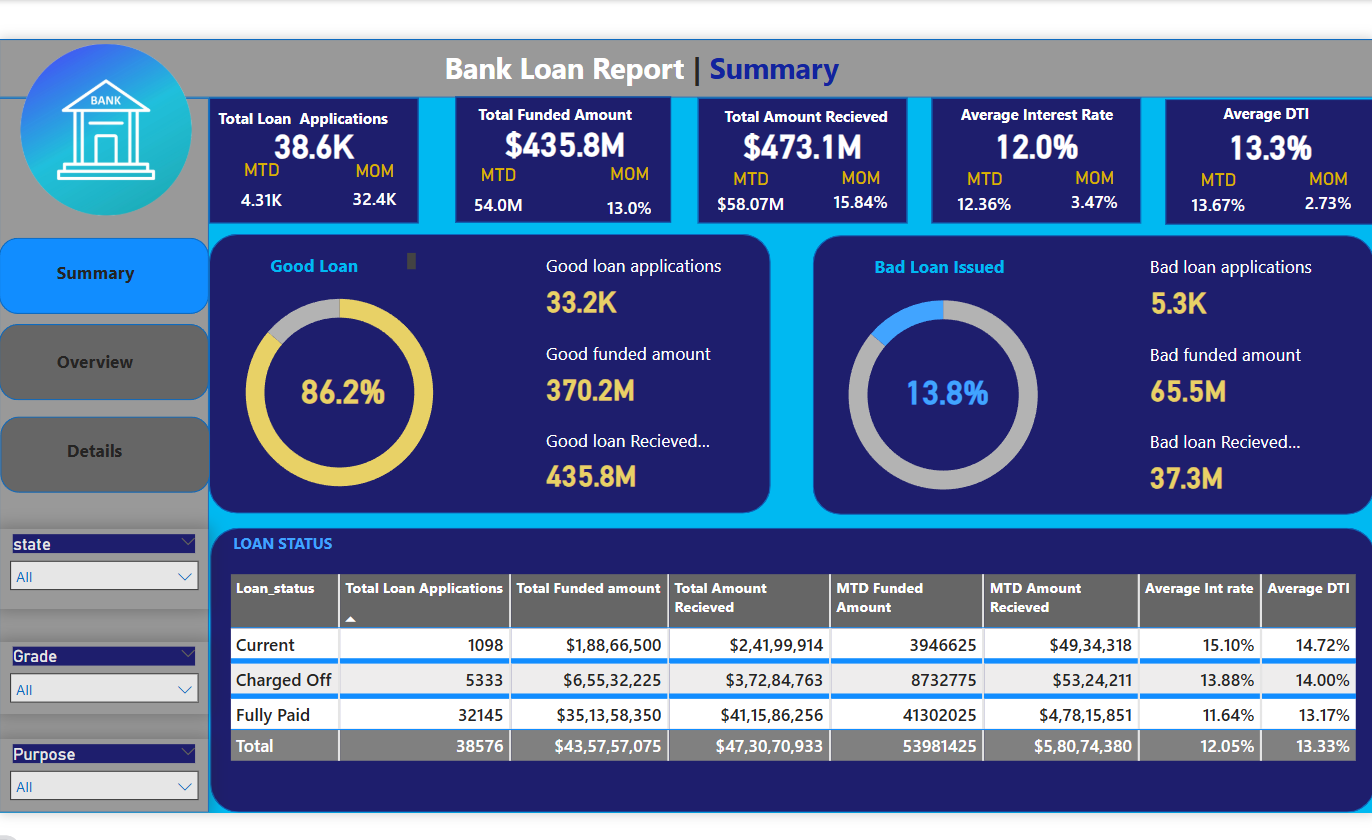

What the dashboard file says about the page in this screenshot:
{"tool":"powerbi","page":{"name":"Summary","canvas":[1280,720],"ordinal":0},"visuals":[{"type":"shape","box":[0,54.7,195.3,665.1],"z":0},{"type":"shape","box":[195.3,54.7,195,117],"z":0,"group":"g1"},{"type":"shape","box":[650,54.7,195,117],"z":0,"group":"g2"},{"type":"shape","box":[867.4,54.7,195,117],"z":0,"group":"g3"},{"type":"shape","box":[1084.9,55.8,195,117],"z":0,"group":"g4"},{"type":"shape","box":[195,181.2,522.5,260],"z":0,"group":"g5"},{"type":"shape","box":[757,182.5,522.5,260],"z":0,"group":"g6"},{"type":"shape","box":[0,0,1280.2,54.7],"z":1000},{"type":"card","fields":{"Values":["banking.Total Loan Applications"]},"box":[220.9,73.3,144.2,50],"z":1000,"group":"g1"},{"type":"card","fields":{"Values":["banking.Total Amount Recieved"]},"box":[675.6,73.3,144.2,50],"z":1000,"group":"g2"},{"type":"card","fields":{"Values":["banking.Average Int rate"]},"box":[893,73.3,144.2,50],"z":1000,"group":"g3"},{"type":"card","fields":{"Values":["banking.Average DTI"]},"box":[1110.5,74.4,144.2,50],"z":1000,"group":"g4"},{"type":"textbox","box":[247.5,193.7,145,33.8],"z":1000,"group":"g5"},{"type":"textbox","box":[809.5,195,145,33.8],"z":1000,"group":"g6"},{"type":"shape","box":[424.4,53.5,201.2,117.4],"z":2000},{"type":"textbox","box":[1133.4,54.7,114,34.9],"z":2000,"group":"g4"},{"type":"textbox","box":[889.1,55.3,177.9,40.7],"z":2000,"group":"g3"},{"type":"textbox","box":[669.7,56.9,177.9,40.7],"z":2000,"group":"g2"},{"type":"textbox","box":[198.6,58.9,191.2,37.5],"z":2000,"group":"g1"},{"type":"card","fields":{"Values":["banking.Good loan percentage"]},"box":[247.5,301.2,145,50],"z":2000,"group":"g5"},{"type":"card","fields":{"Values":["banking.Bad loan percentage"]},"box":[809.5,302.5,145,50],"z":2000,"group":"g6"},{"type":"card","fields":{"Values":["banking.Total funded amount"]},"box":[440.7,64,172.1,65.1],"z":3000},{"type":"card","title":"MTD","fields":{"Values":["banking.MTD Loan Applications"]},"box":[210,112.1,67.4,58.1],"z":3000,"group":"g1"},{"type":"card","title":"MTD","fields":{"Values":["banking.MTD Amount Recieved"]},"box":[660.4,119.8,77.9,50],"z":3000,"group":"g2"},{"type":"card","title":"MTD","fields":{"Values":["banking.MTD Int Rate"]},"box":[877.8,119.8,77.9,50],"z":3000,"group":"g3"},{"type":"card","title":"MTD","fields":{"Values":["banking.MTD DTI"]},"box":[1095.3,120.9,77.9,50],"z":3000,"group":"g4"},{"type":"donutChart","fields":{"Category":["banking.Good vs bad loan"],"Y":["banking.Total Loan Applications"]},"box":[190.1,214.6,252.3,227.9],"z":3000,"group":"g5"},{"type":"donutChart","fields":{"Category":["banking.Good vs bad loan"],"Y":["banking.Total Loan Applications"]},"box":[753.8,215.9,250,230],"z":3000,"group":"g6"},{"type":"textbox","box":[409.3,3.5,439.5,50],"z":4000},{"type":"card","title":"MOM","fields":{"Values":["banking.MOM Amount Recieved"]},"box":[759.2,118.5,84.9,48.8],"z":4000,"group":"g2"},{"type":"card","title":"MOM","fields":{"Values":["banking.MOM Int Rate"]},"box":[976.6,118.5,84.9,48.8],"z":4000,"group":"g3"},{"type":"card","title":"MOM","fields":{"Values":["banking.MOM DTI"]},"box":[1194.1,119.6,84.9,48.8],"z":4000,"group":"g4"},{"type":"cardVisual","fields":{"Data":["banking.Good loan applications","banking.Good funded loans","banking.Good loan Recieved amount"]},"box":[491.2,182.4,217.5,248.8],"z":4000,"group":"g5"},{"type":"cardVisual","fields":{"Data":["banking.bad loan applications","banking.Bad funded amount","banking.Bad loan Recieved amount"]},"box":[1053.2,183.7,217.5,248.8],"z":4000,"group":"g6"},{"type":"textbox","box":[440.7,55.8,170.9,36],"z":5000},{"type":"group","id":"g1","title":"Group 1","box":[195.3,54.7,195,117],"z":6000},{"type":"card","title":"MTD","fields":{"Values":["banking.MTD Funded Amount"]},"box":[424.4,116.3,80.2,59.3],"z":7000},{"type":"card","title":"MOM","fields":{"Values":["banking.MOM Funded Amount"]},"box":[547.7,115.1,77.9,67.4],"z":8000},{"type":"card","title":"MOM","fields":{"Values":["banking.MOM Applications"]},"box":[317.4,112.8,64,54.7],"z":9000},{"type":"group","id":"g2","title":"Group 1","box":[650,54.7,197.7,117.4],"z":10000},{"type":"shape","box":[196.2,455,1083.8,265],"z":11000},{"type":"group","id":"g3","title":"Group 1","box":[867.4,54.7,200,117.4],"z":12000},{"type":"group","id":"g4","title":"Group 1","box":[1084.9,54.7,195.3,118.6],"z":13000},{"type":"group","id":"g5","title":"Group 2","box":[190.1,181.2,527.4,261.3],"z":14000},{"type":"group","id":"g6","title":"Group 2","box":[753.8,182.5,526.2,263.8],"z":15000},{"type":"tableEx","fields":{"Values":["banking.loan_status","banking.Total Loan Applications","banking.Total funded amount","banking.Total Amount Recieved","banking.MTD Funded Amount","banking.MTD Amount Recieved","banking.Average Int rate","banking.Average DTI"]},"box":[209.3,493,1061.6,202.3],"z":16000},{"type":"textbox","box":[212.8,454.7,130.2,38.4],"z":17000},{"type":"slicer","fields":{"Values":["banking.address_state"]},"box":[0,455.8,195.3,74.4],"z":18000},{"type":"slicer","fields":{"Values":["banking.grade"]},"box":[0,560.5,195.3,67.4],"z":19000},{"type":"slicer","fields":{"Values":["banking.purpose"]},"box":[0,651.2,195.3,68.6],"z":20000},{"type":"pageNavigator","box":[3.5,194.2,187.2,50],"z":21000},{"type":"shape","box":[0,184.9,195.3,70.9],"z":22000},{"type":"textbox","box":[48.8,201.2,97.7,38.4],"z":23000},{"type":"shape","box":[0,265.1,195.3,70.9],"z":24000},{"type":"shape","box":[1.2,351.2,195.3,70.9],"z":25000},{"type":"textbox","box":[48.8,283.7,105.8,38.4],"z":26000},{"type":"textbox","box":[58.1,366.3,120.9,40.7],"z":27000},{"type":"image","box":[0,0,198.8,168.6],"z":28000},{"type":"shape","box":[19.8,352.3,159.3,69.8],"z":29000},{"type":"shape","box":[19.8,265.1,159.3,70.9],"z":30000}]}

Visuals, with their boxes on the page's 1280x720 design canvas (x1, y1, x2, y2). These are canvas units, not pixel positions in the 1372x840 screenshot, which may show the page scaled, cropped or inside an application window:
shape: (left=0, top=55, right=195, bottom=720)
shape: (left=195, top=55, right=390, bottom=172)
shape: (left=650, top=55, right=845, bottom=172)
shape: (left=867, top=55, right=1062, bottom=172)
shape: (left=1085, top=56, right=1280, bottom=173)
shape: (left=195, top=181, right=718, bottom=441)
shape: (left=757, top=182, right=1280, bottom=442)
shape: (left=0, top=0, right=1280, bottom=55)
card - banking.Total Loan Applications: (left=221, top=73, right=365, bottom=123)
card - banking.Total Amount Recieved: (left=676, top=73, right=820, bottom=123)
card - banking.Average Int rate: (left=893, top=73, right=1037, bottom=123)
card - banking.Average DTI: (left=1110, top=74, right=1255, bottom=124)
textbox: (left=248, top=194, right=392, bottom=228)
textbox: (left=810, top=195, right=954, bottom=229)
shape: (left=424, top=54, right=626, bottom=171)
textbox: (left=1133, top=55, right=1247, bottom=90)
textbox: (left=889, top=55, right=1067, bottom=96)
textbox: (left=670, top=57, right=848, bottom=98)
textbox: (left=199, top=59, right=390, bottom=96)
card - banking.Good loan percentage: (left=248, top=301, right=392, bottom=351)
card - banking.Bad loan percentage: (left=810, top=302, right=954, bottom=352)
card - banking.Total funded amount: (left=441, top=64, right=613, bottom=129)
"MTD" card: (left=210, top=112, right=277, bottom=170)
"MTD" card: (left=660, top=120, right=738, bottom=170)
"MTD" card: (left=878, top=120, right=956, bottom=170)
"MTD" card: (left=1095, top=121, right=1173, bottom=171)
donutChart - banking.Good vs bad loan x banking.Total Loan Applications: (left=190, top=215, right=442, bottom=442)
donutChart - banking.Good vs bad loan x banking.Total Loan Applications: (left=754, top=216, right=1004, bottom=446)
textbox: (left=409, top=4, right=849, bottom=54)
"MOM" card: (left=759, top=118, right=844, bottom=167)
"MOM" card: (left=977, top=118, right=1062, bottom=167)
"MOM" card: (left=1194, top=120, right=1279, bottom=168)
cardVisual - banking.Good loan applications x banking.Good funded loans: (left=491, top=182, right=709, bottom=431)
cardVisual - banking.bad loan applications x banking.Bad funded amount: (left=1053, top=184, right=1271, bottom=432)
textbox: (left=441, top=56, right=612, bottom=92)
"Group 1" group: (left=195, top=55, right=390, bottom=172)
"MTD" card: (left=424, top=116, right=505, bottom=176)
"MOM" card: (left=548, top=115, right=626, bottom=182)
"MOM" card: (left=317, top=113, right=381, bottom=168)
"Group 1" group: (left=650, top=55, right=848, bottom=172)
shape: (left=196, top=455, right=1280, bottom=720)
"Group 1" group: (left=867, top=55, right=1067, bottom=172)
"Group 1" group: (left=1085, top=55, right=1280, bottom=173)
"Group 2" group: (left=190, top=181, right=718, bottom=442)
"Group 2" group: (left=754, top=182, right=1280, bottom=446)
tableEx - banking.loan_status x banking.Total Loan Applications: (left=209, top=493, right=1271, bottom=695)
textbox: (left=213, top=455, right=343, bottom=493)
slicer - banking.address_state: (left=0, top=456, right=195, bottom=530)
slicer - banking.grade: (left=0, top=560, right=195, bottom=628)
slicer - banking.purpose: (left=0, top=651, right=195, bottom=720)
pageNavigator: (left=4, top=194, right=191, bottom=244)
shape: (left=0, top=185, right=195, bottom=256)
textbox: (left=49, top=201, right=146, bottom=240)
shape: (left=0, top=265, right=195, bottom=336)
shape: (left=1, top=351, right=196, bottom=422)
textbox: (left=49, top=284, right=155, bottom=322)
textbox: (left=58, top=366, right=179, bottom=407)
image: (left=0, top=0, right=199, bottom=169)
shape: (left=20, top=352, right=179, bottom=422)
shape: (left=20, top=265, right=179, bottom=336)
